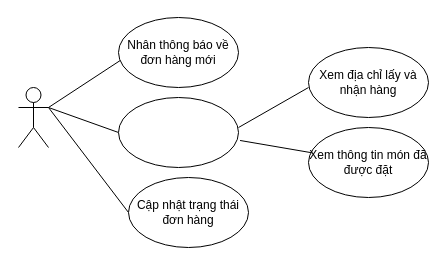
Some shapes in this 446 by 265 pixel diagram are drawn without their labels. Each missing label, with the centre of its shape:
"Tài xế" goes at point 33,117.
"Xem chi tiết đơn hàng" goes at point 178,132.
